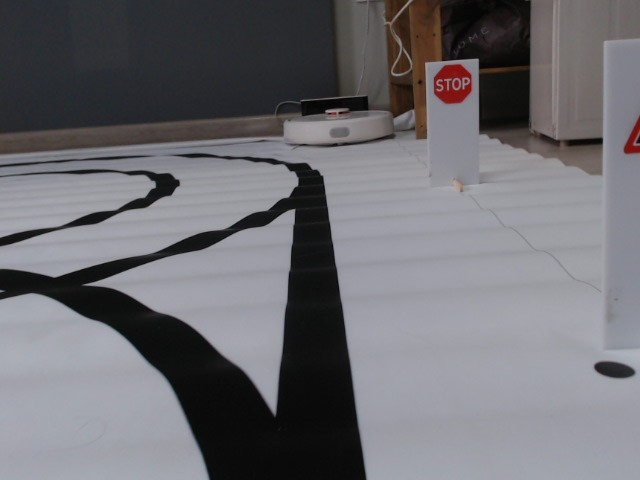Stop: (433, 63, 473, 105)
